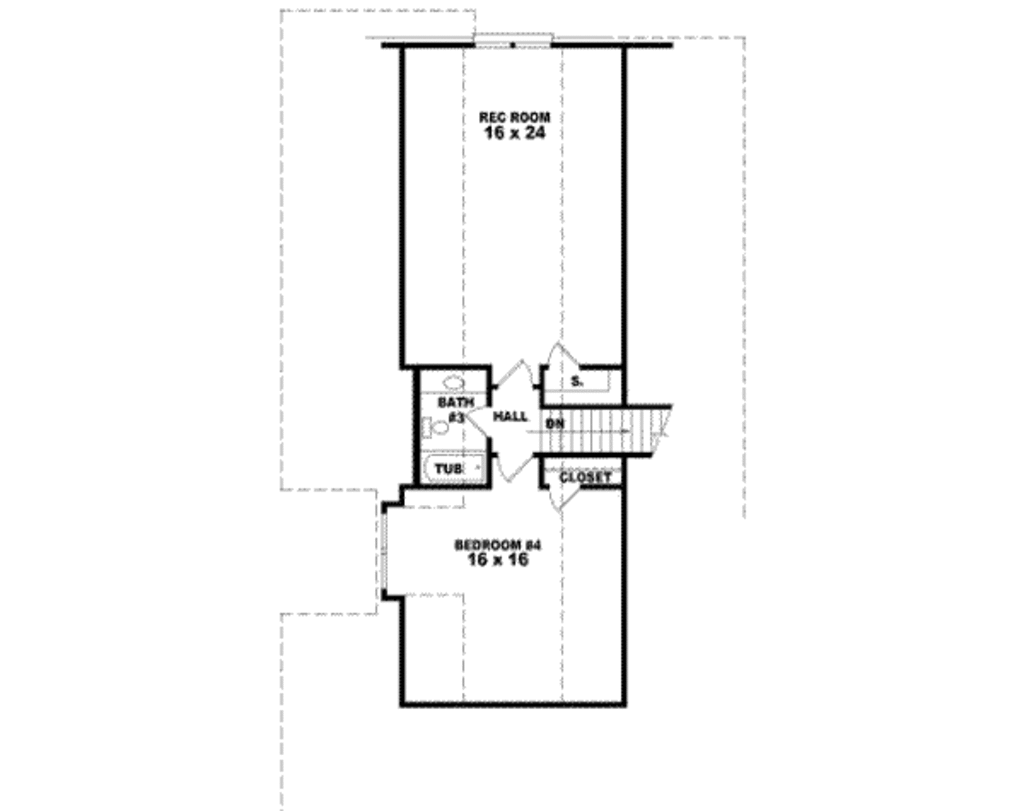door: (537, 337, 584, 372), (489, 452, 534, 488), (492, 357, 535, 392), (547, 479, 577, 513), (466, 407, 492, 438)
large_sink: (416, 411, 455, 451)
small_sink: (421, 364, 489, 399)
stairs: (539, 404, 677, 452)
tub: (419, 451, 489, 492)
window: (475, 32, 555, 47), (376, 509, 389, 589)
